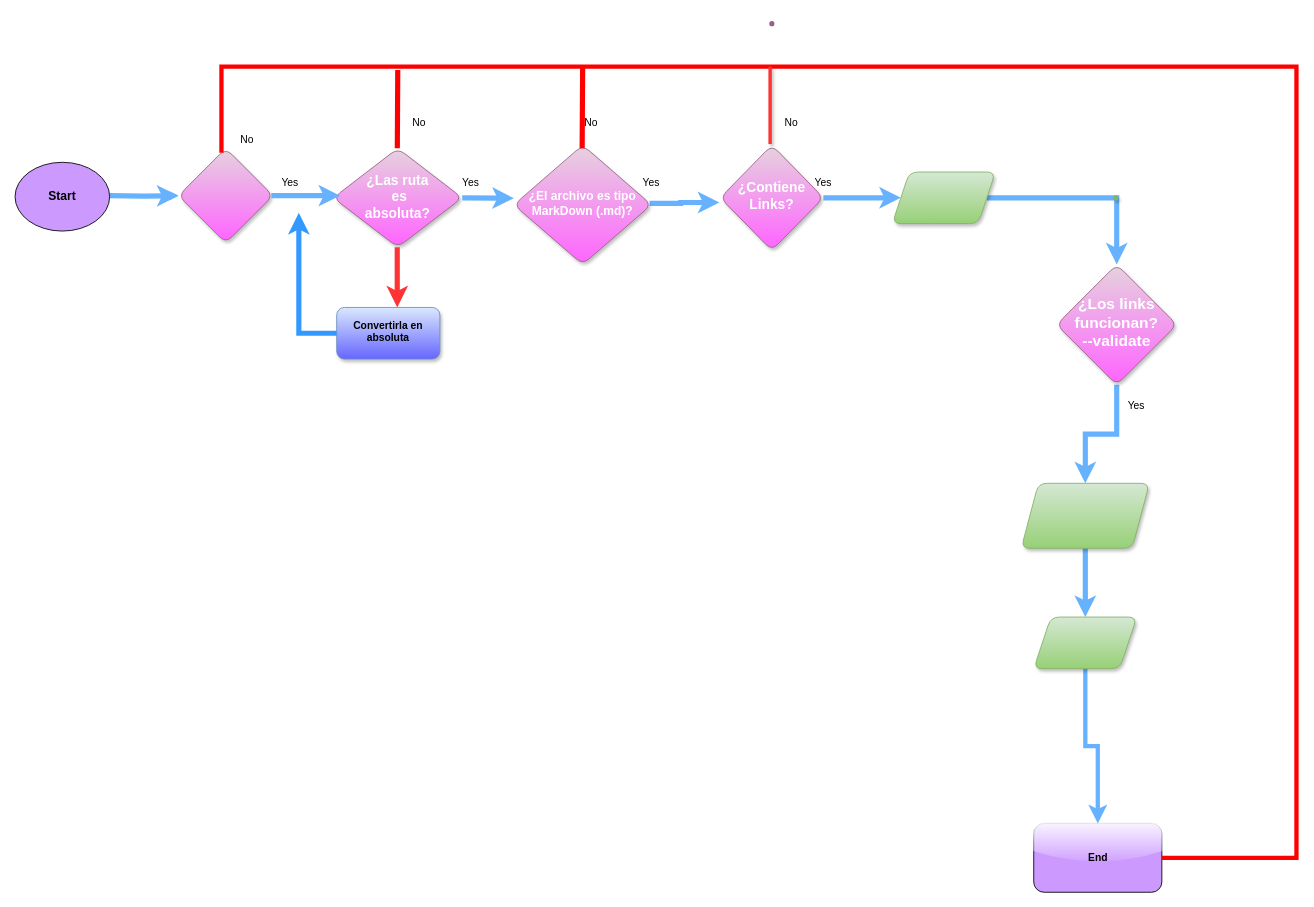
This 1314x907 diagram has some shape labels left out. The shapes that lost their labels are listed below. From the top down, each one's centre as x and y in pixels, then its label:
(226,196): ¿Existe la ruta?
(944,199): Crear función para extraer links
(1086,516): Mostrarlos --stats (--validate + stats)
(1085,644): Mostrar los que NO funcionan
